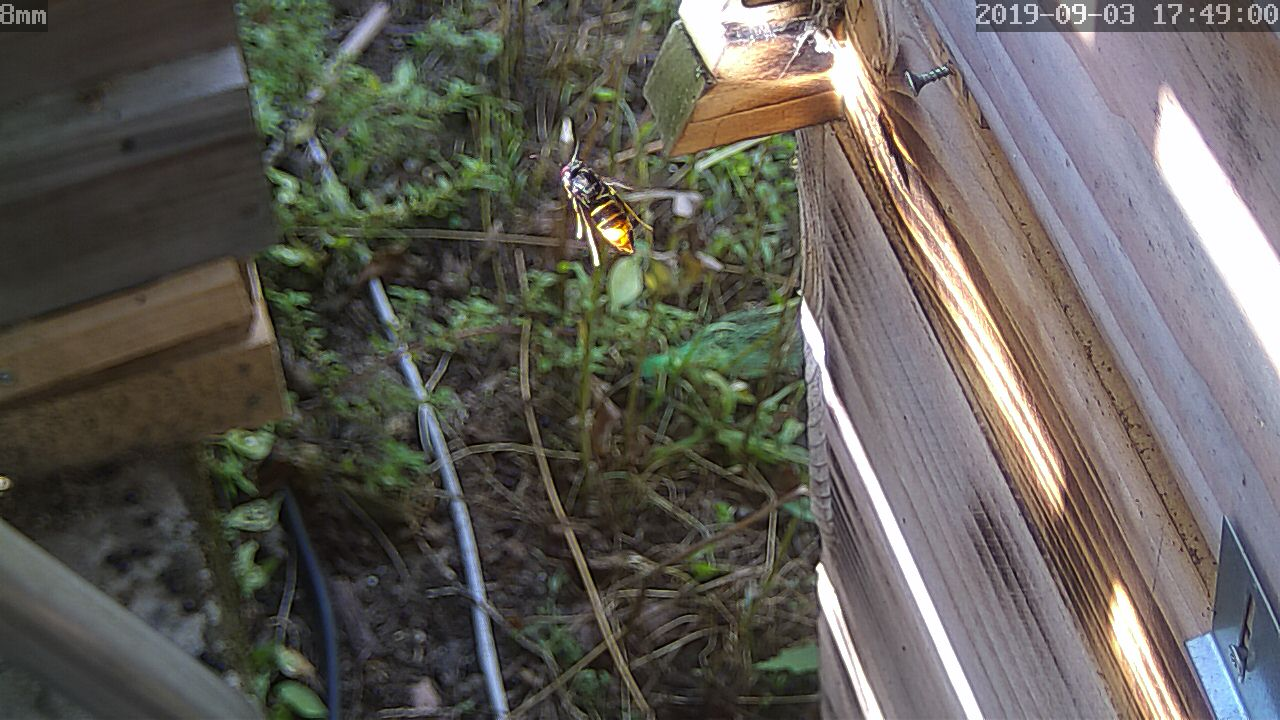hornet: (578, 194, 669, 257)
